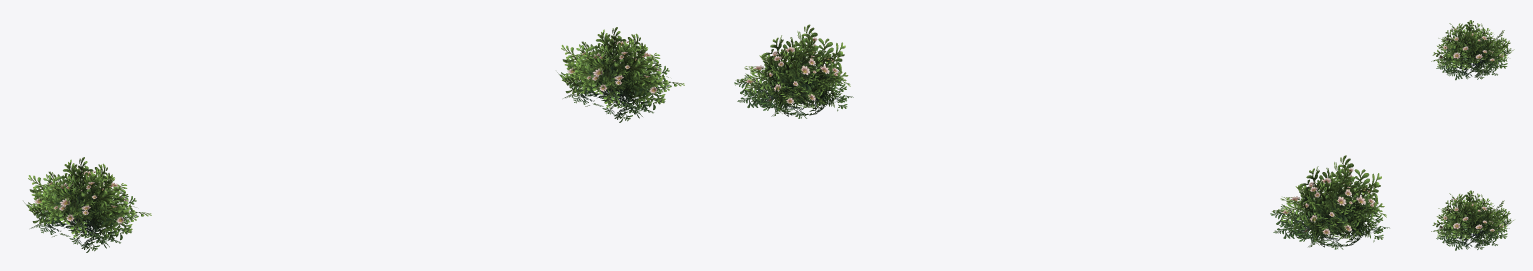
Rendered from S_Plant_Green001_A.FBX.
3 views of the same model, side by side, from view 1: azimuth 30°, elevation 25°; view 2: azimuth 150°, elevation 25°; view 3: azimuth 270°, elevation 25° (orthographic). The views are drawn at different scales.
Parts seen in each view (by area): view 1: S_Plant_Green001_001, S_Plant_Green001_002; view 2: S_Plant_Green001_002, S_Plant_Green001_001; view 3: S_Plant_Green001_002, S_Plant_Green001_001.
Boxes of the visible parts, x1=… form: S_Plant_Green001_001: x1=557, y1=27, x2=684, y2=122; S_Plant_Green001_002: x1=23, y1=157, x2=151, y2=252; S_Plant_Green001_002: x1=1270, y1=155, x2=1389, y2=249; S_Plant_Green001_001: x1=734, y1=24, x2=853, y2=118; S_Plant_Green001_002: x1=1431, y1=20, x2=1514, y2=80; S_Plant_Green001_001: x1=1431, y1=190, x2=1513, y2=250.
Size of the model in its own units: 3446 by 656 by 508.
